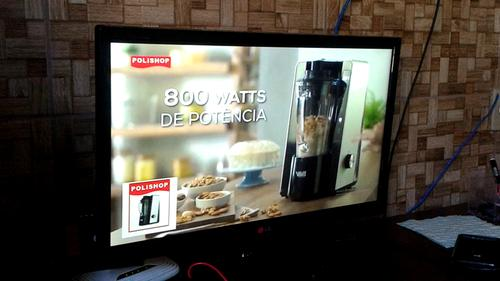Polishop #1: (121, 175, 178, 238)
